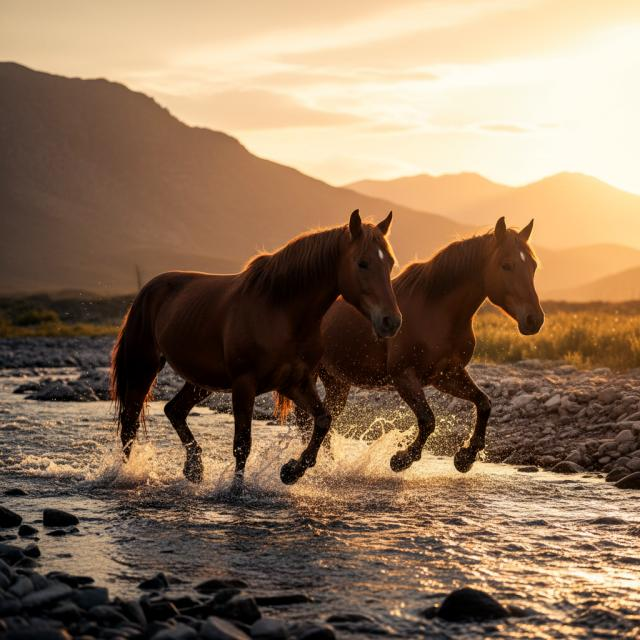horse: (100, 210, 410, 497), (295, 209, 547, 483)
